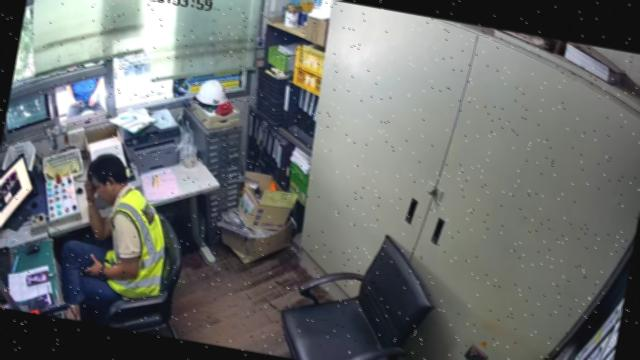Head: (86, 154, 129, 203)
People: (61, 154, 166, 319)
Phone: (27, 293, 55, 310), (26, 270, 51, 285)
